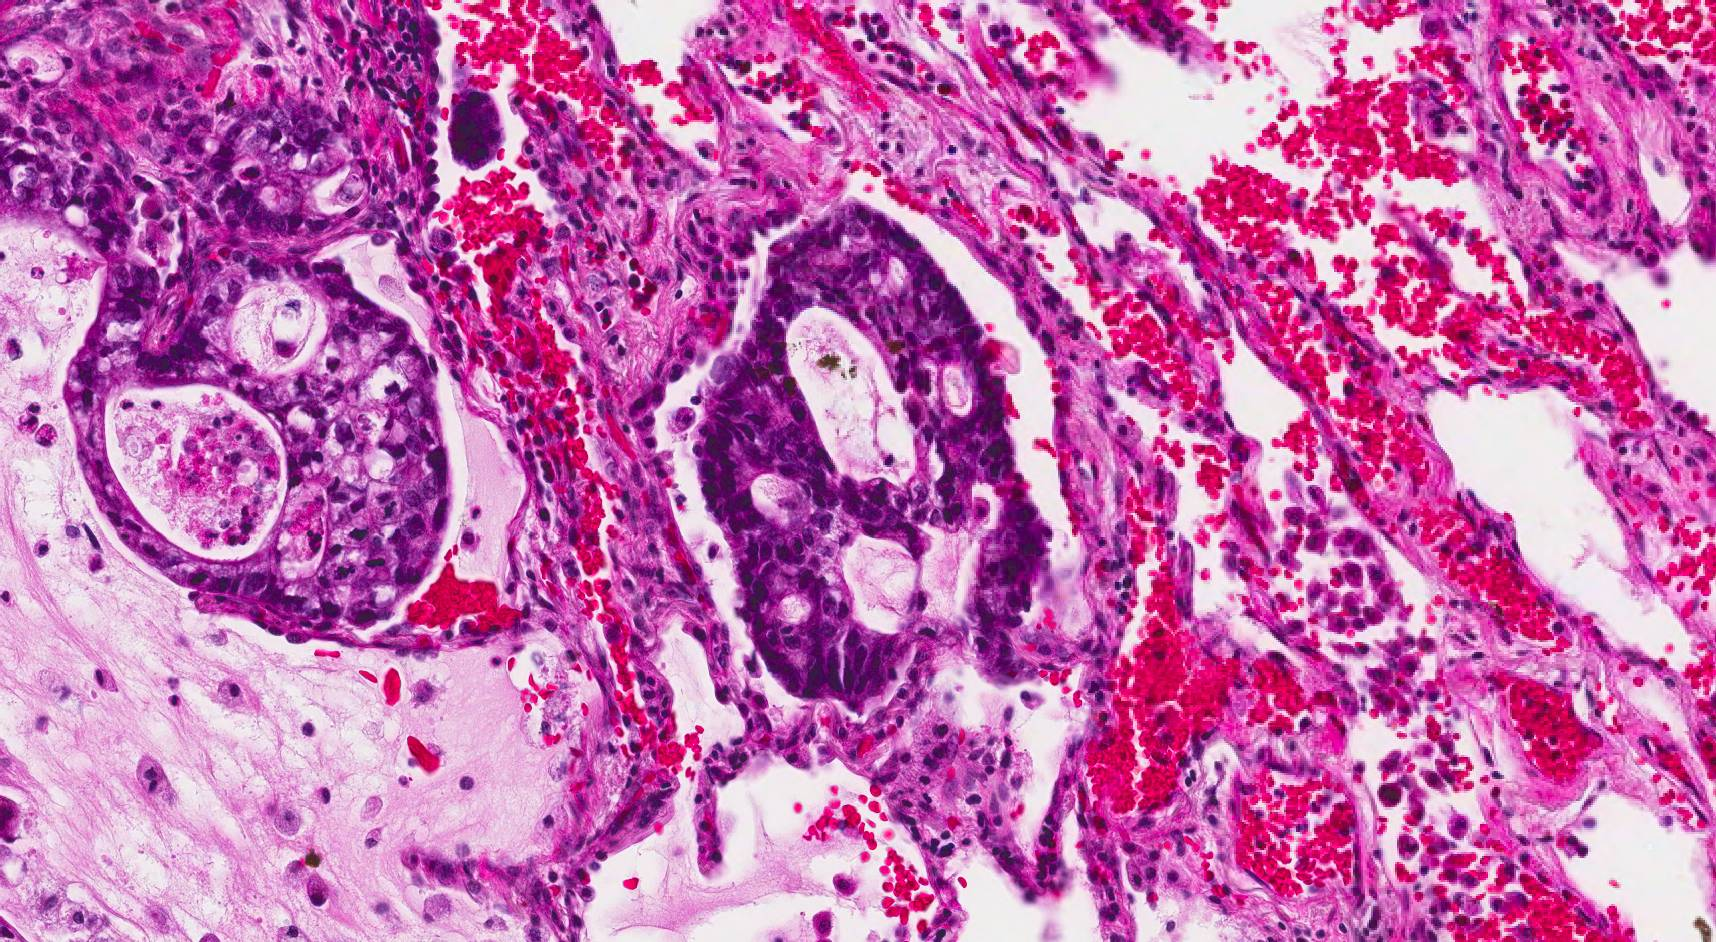stas: (700, 196, 1054, 703)
